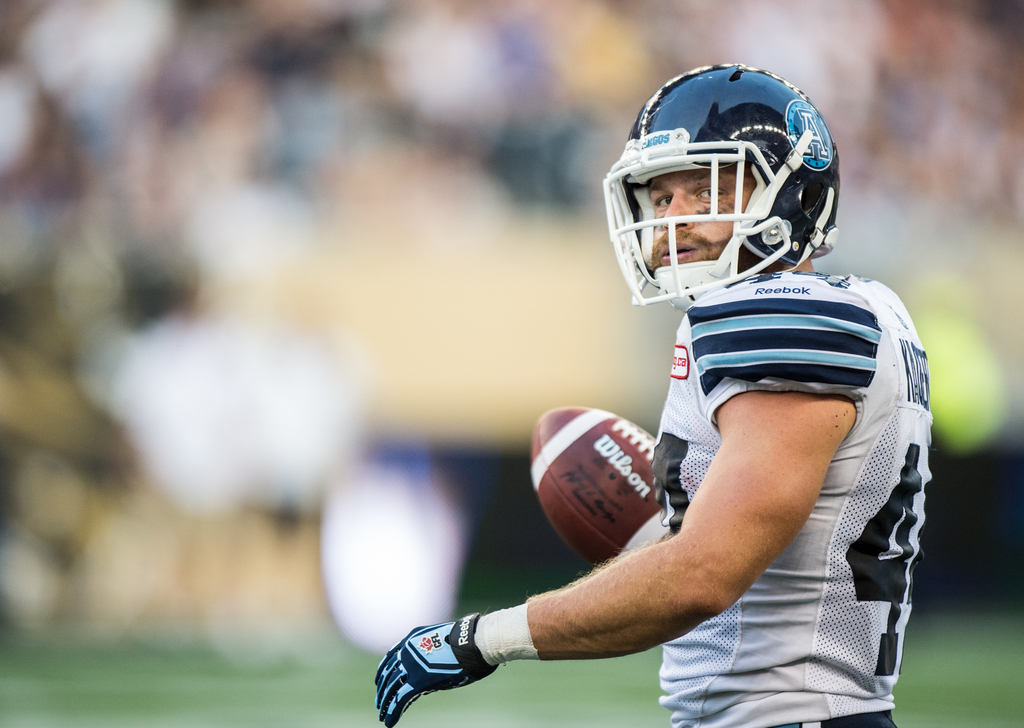Ball: (532, 408, 658, 567)
